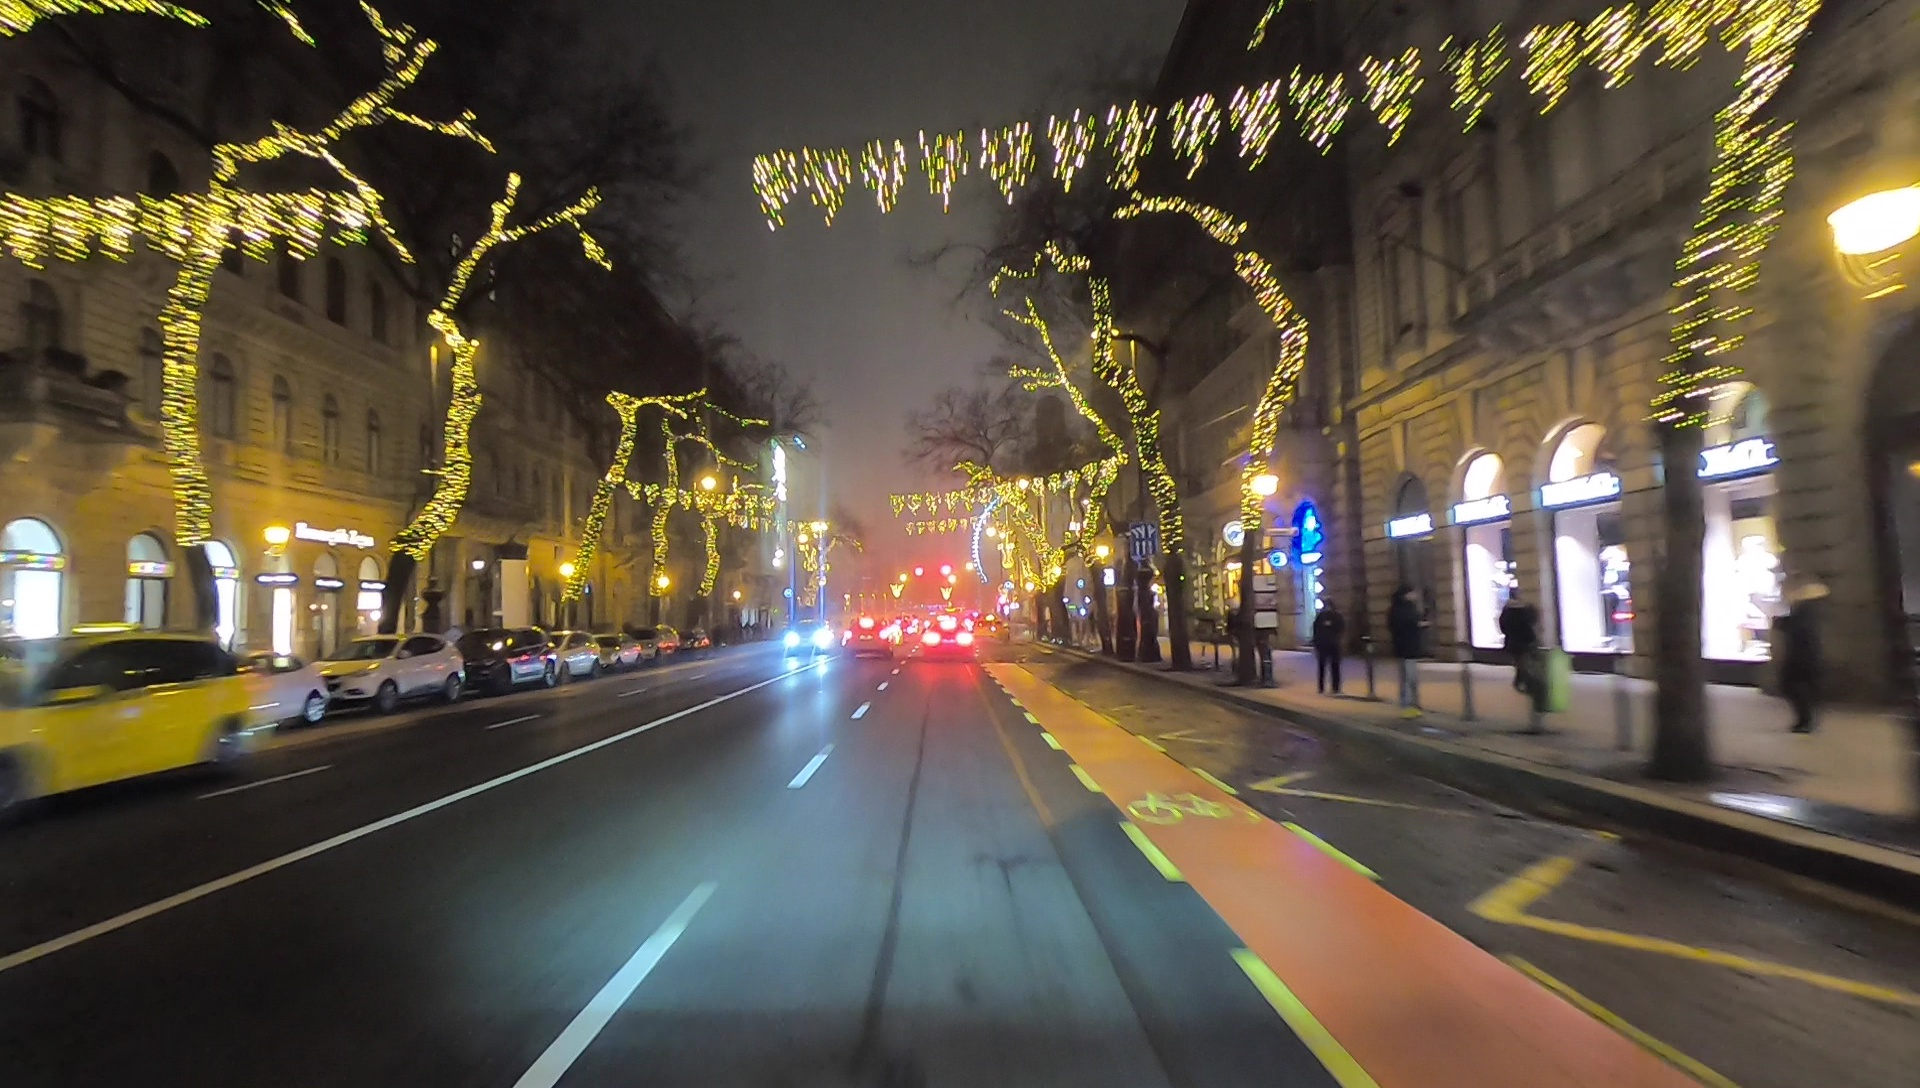person: (1762, 566, 1832, 735), (1499, 581, 1549, 701), (1384, 581, 1426, 720), (1312, 598, 1345, 695)
